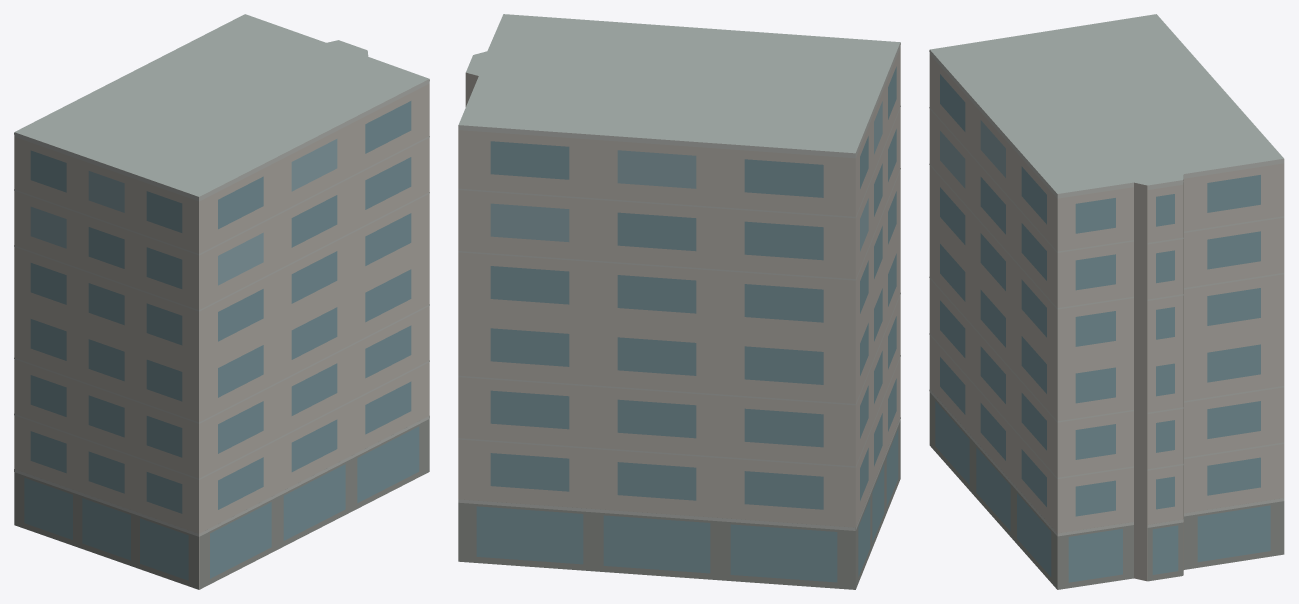
Rendered from survey-upis-32864495.glb.
3 renders of one model, left to right at view 1: azimuth 30°, elevation 25°; view 2: azimuth 150°, elevation 25°; view 3: azimuth 270°, elevation 25°, orthographic. The views are drawn at different scales.
Parts seen in each view (by area): view 1: survey-upis-32864495.tmp; view 2: survey-upis-32864495.tmp; view 3: survey-upis-32864495.tmp.
Boxes of the visible parts, left/top/right/bottom form: survey-upis-32864495.tmp: left=14, top=14, right=429, bottom=589; survey-upis-32864495.tmp: left=458, top=14, right=900, bottom=589; survey-upis-32864495.tmp: left=929, top=14, right=1284, bottom=589.
Size of the model in its own units: 20.46 by 20.95 by 17.03.
